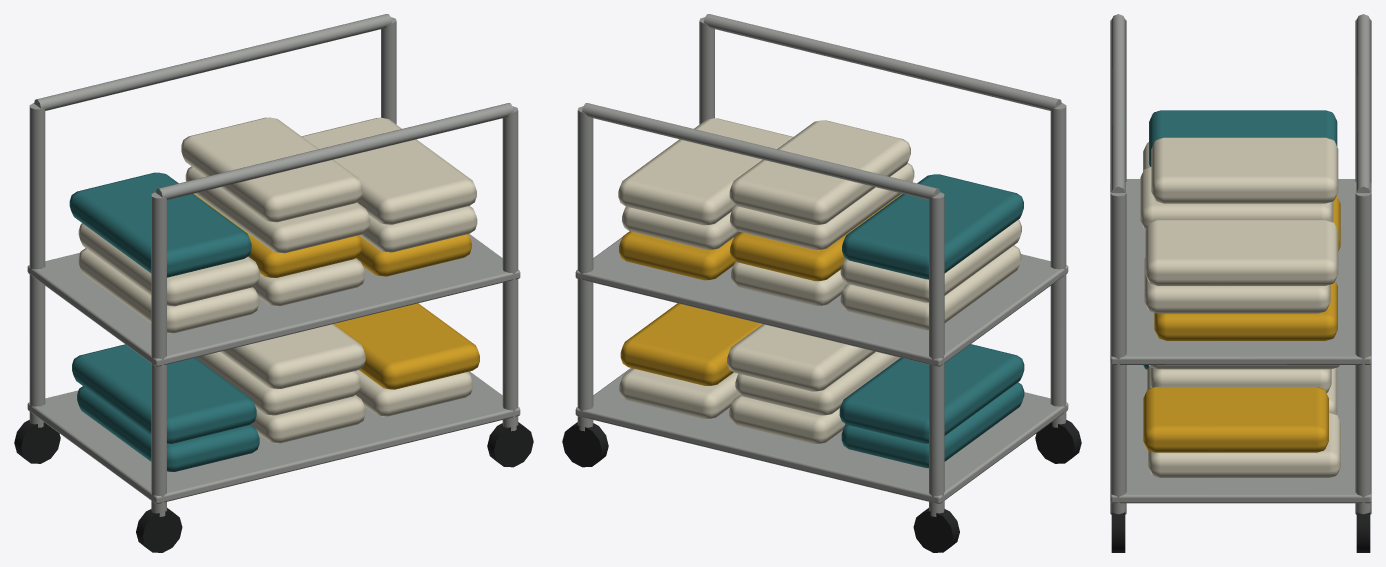
The model's file is towel-cart.glb.
3 views of the same model, side by side, from view 1: azimuth 30°, elevation 25°; view 2: azimuth 150°, elevation 25°; view 3: azimuth 270°, elevation 25° (orthographic).
Visible parts, largest first — view 1: steel, paint-ivory, paint-teal, paint-yellow, rubber; view 2: steel, paint-ivory, paint-teal, paint-yellow, rubber; view 3: paint-ivory, steel, paint-yellow, paint-teal, rubber.
Part boxes in pixels (box(x1,y1,x2,y2)): steel: box(27, 14, 520, 516); paint-ivory: box(78, 117, 477, 443); paint-teal: box(69, 172, 259, 471); paint-yellow: box(193, 193, 479, 389); rubber: box(14, 420, 533, 552); steel: box(575, 14, 1068, 516); paint-ivory: box(618, 118, 1021, 443); paint-teal: box(839, 174, 1024, 468); paint-yellow: box(619, 193, 902, 385); rubber: box(562, 420, 1081, 552); paint-ivory: box(1140, 137, 1340, 477); steel: box(1110, 14, 1371, 514); paint-yellow: box(1143, 195, 1340, 452); paint-teal: box(1143, 110, 1337, 369); rubber: box(1111, 511, 1370, 552).
Bounding box in the file's own units: 1.67 × 1.48 × 0.96.
